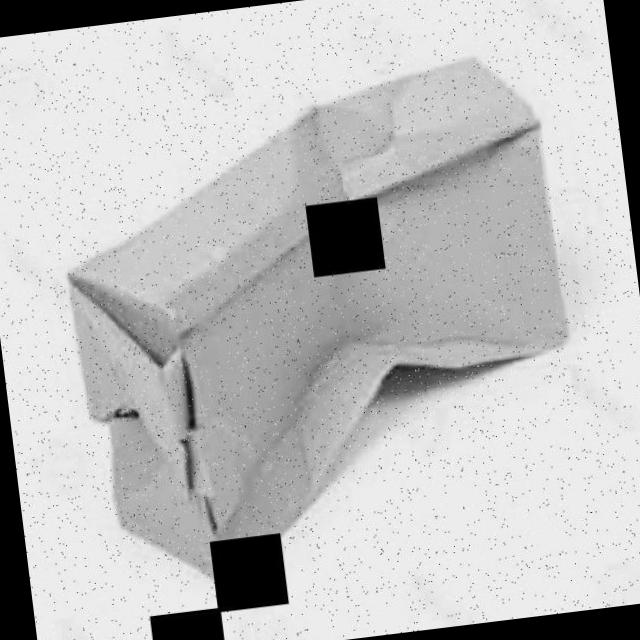box: (35, 41, 612, 612)
